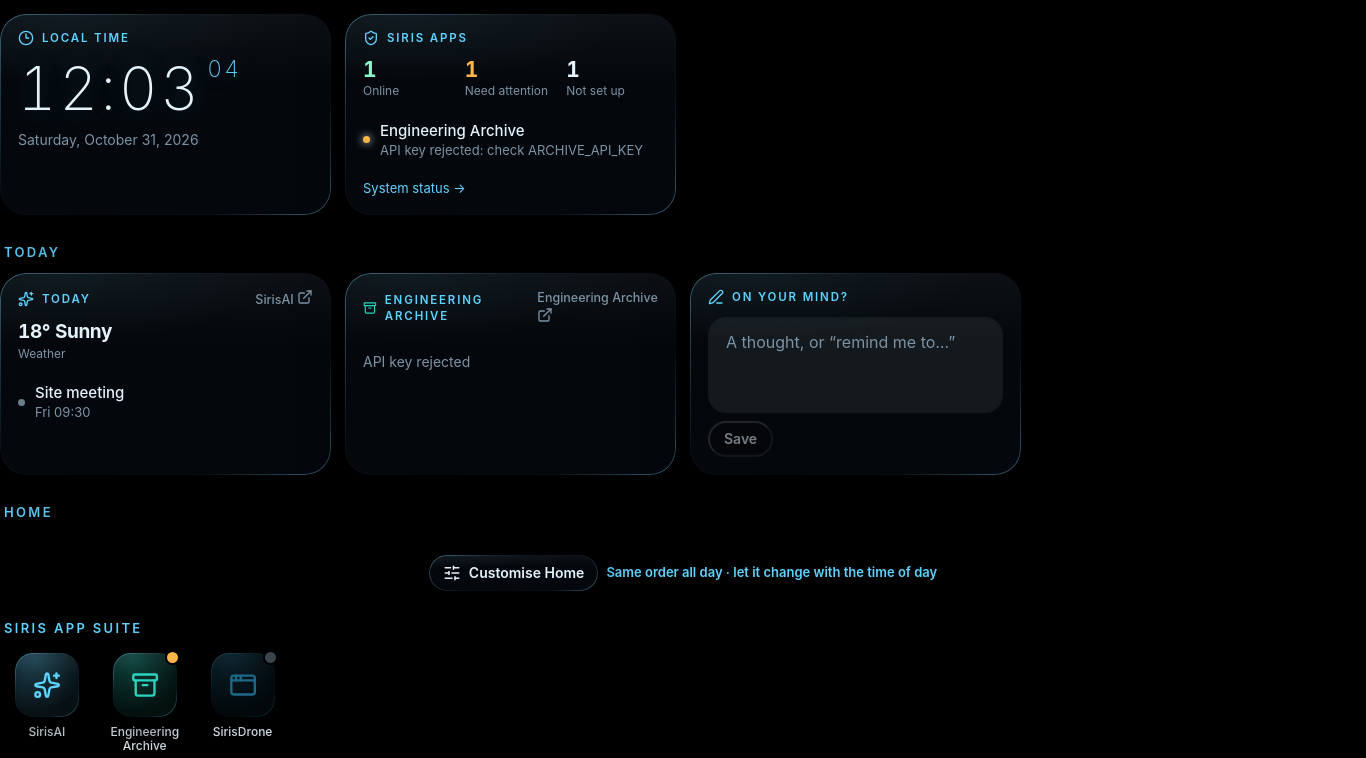
<Home /> › shows widgets, app tiles and an app's status sheet
(page scrolled)
Expected: the text "18° Sunny" is shown, x1=18 y1=320 x2=112 y2=343
Expected: the text "Site meeting" is shown, x1=35 y1=383 x2=124 y2=402
Click the button with aria-label "Engineering Archive: degraded" at [145, 703], box x1=102 y1=653 x2=188 y2=754
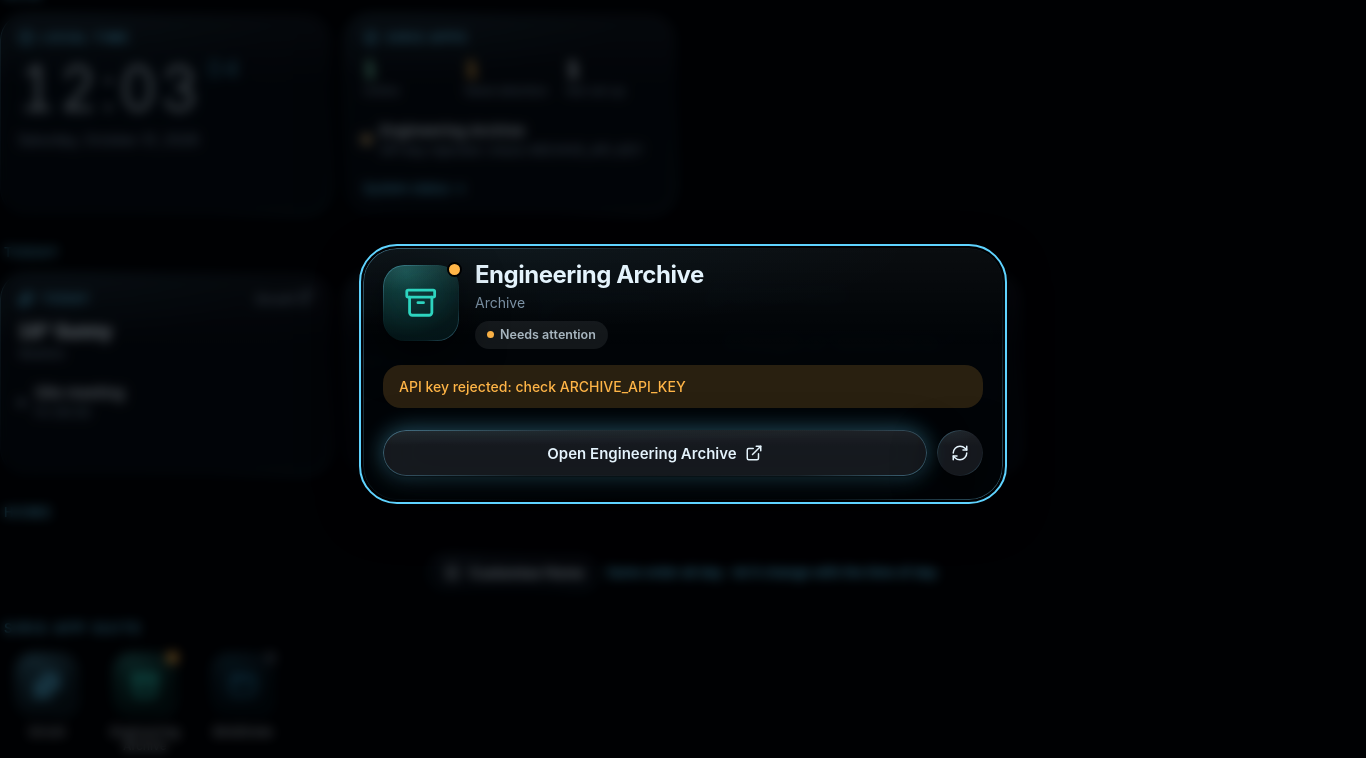
Result: the text "Needs attention" is shown at x1=475 y1=321 x2=608 y2=349
Result: the text "API key rejected: check ARCHIVE_API_KEY" is shown at x1=383 y1=365 x2=983 y2=408
